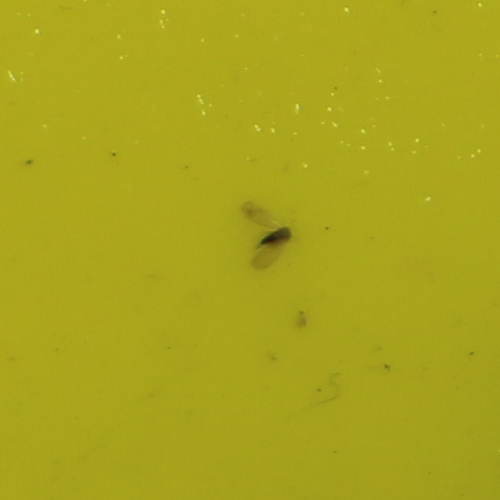psylla: (255, 222, 298, 251)
